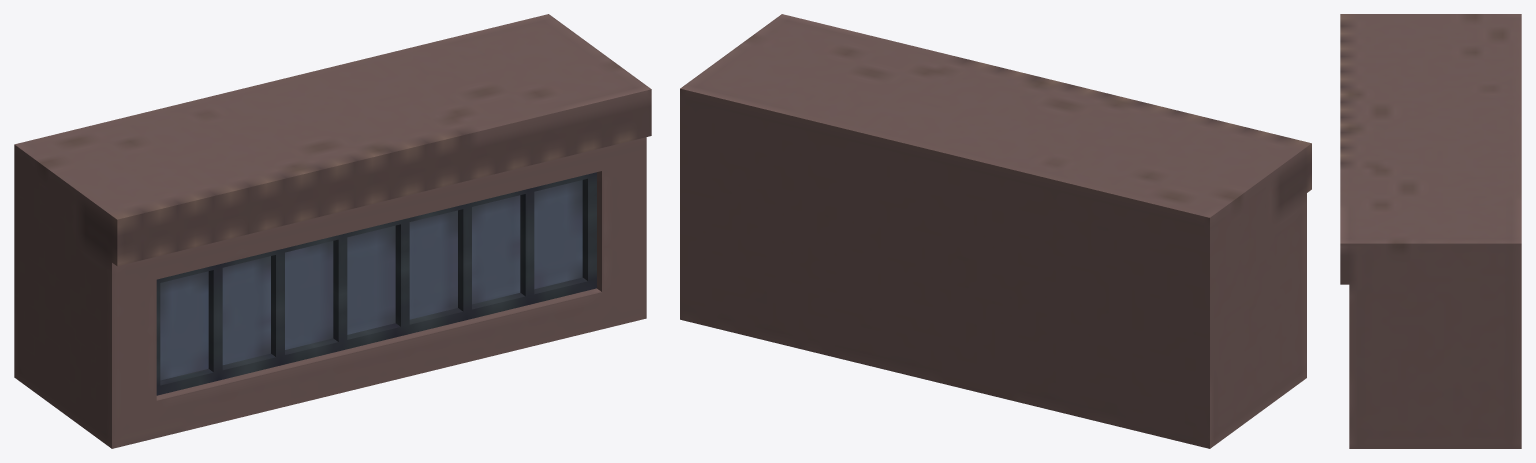
File: BuildingBlock_2.glb
The picture shows the model from 3 angles, left to right: view 1: azimuth 30°, elevation 25°; view 2: azimuth 150°, elevation 25°; view 3: azimuth 270°, elevation 25°; orthographic projection. The views are drawn at different scales.
Visible parts, largest first — view 1: BuildingBlock_2; view 2: BuildingBlock_2; view 3: BuildingBlock_2.
Part boxes in pixels (x1=…): BuildingBlock_2: x1=14, y1=14, x2=651, y2=448; BuildingBlock_2: x1=680, y1=14, x2=1311, y2=448; BuildingBlock_2: x1=1340, y1=14, x2=1521, y2=448.
Size of the model in its own units: 6 by 2.5 by 2.
1 material, 1 textured.
